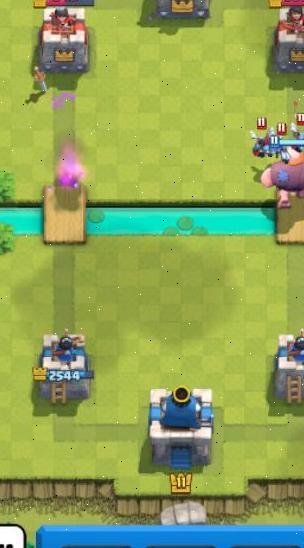enemy_minions: (248, 126, 277, 157), (270, 140, 293, 161), (289, 124, 304, 152)
player_giant: (256, 143, 304, 208)
